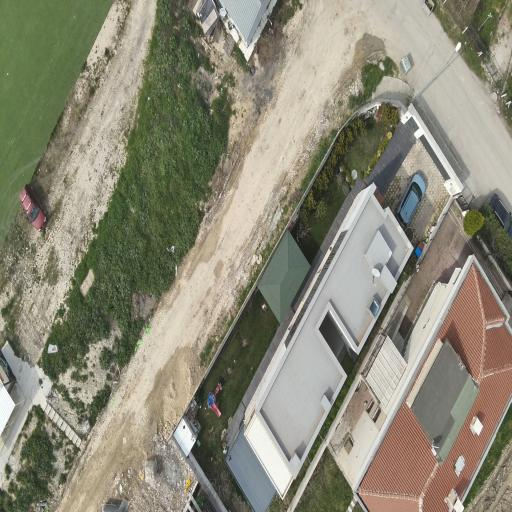car: (397, 173, 426, 227), (20, 184, 46, 232), (488, 193, 511, 238)
